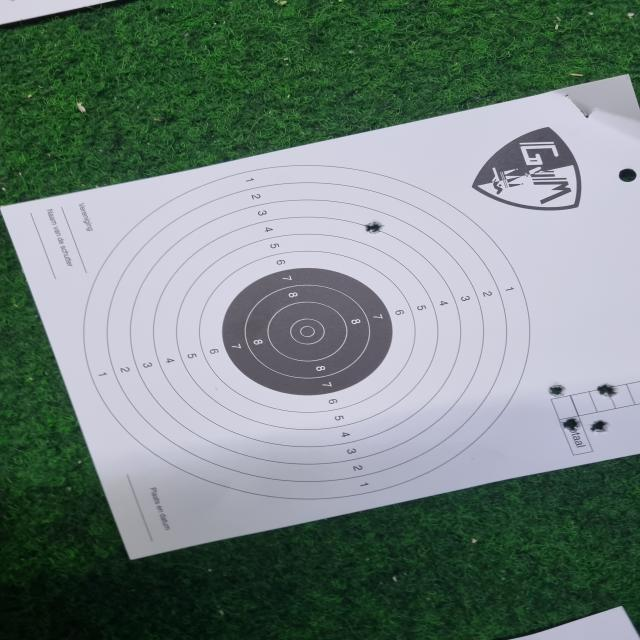5: (364, 222, 384, 234)
Black Contour: (224, 268, 392, 396)
Target: (82, 164, 530, 500)
hole: (596, 383, 618, 397), (560, 418, 580, 431), (590, 420, 609, 432), (548, 384, 565, 397)
